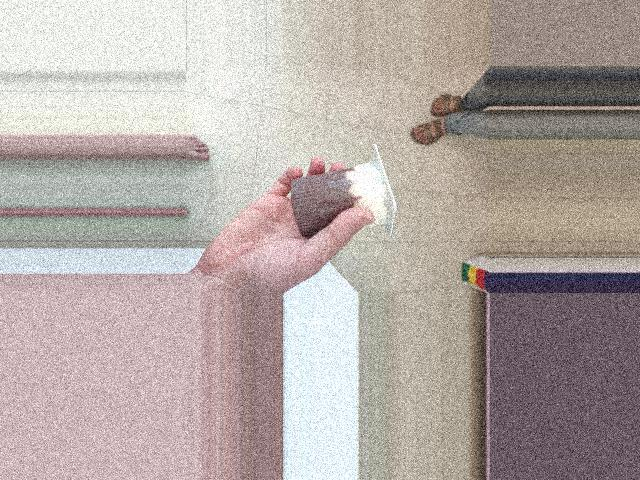milky: (282, 153, 396, 224)
